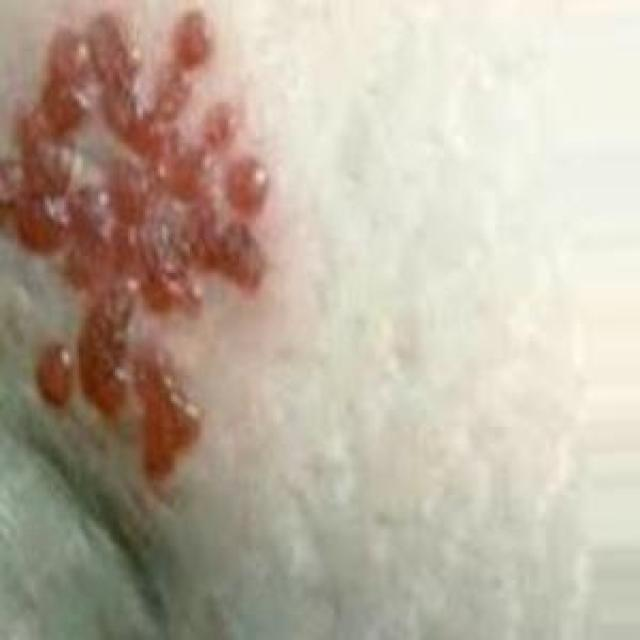Shingles: (0, 12, 276, 487)
